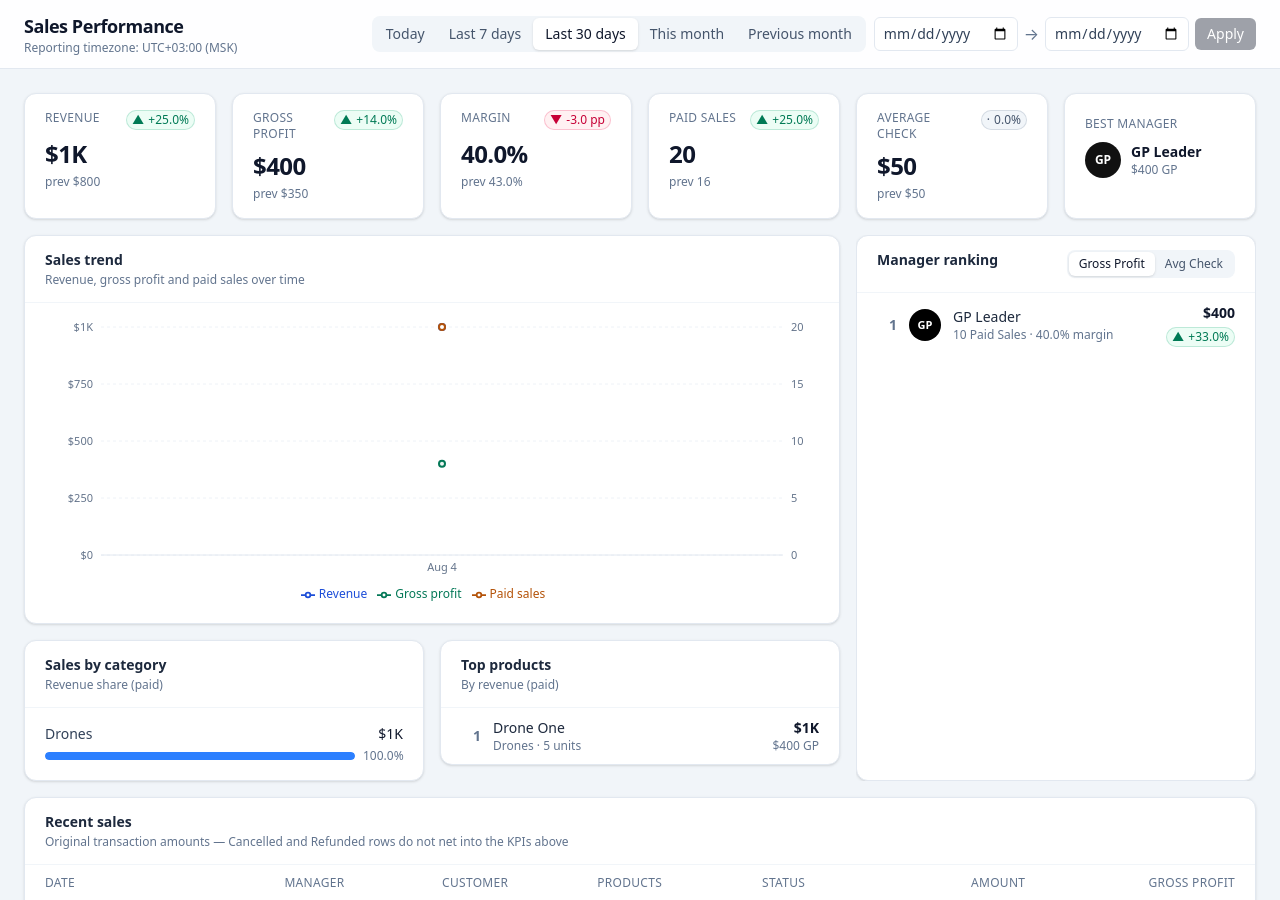
Scenario: Dashboard › marks an inverted custom range invalid and makes no request for it
Expected: the text "Revenue" in the row of "+14.0%" is shown, [45,109,100,126]
Type "2026-09-02" into the date field named "From date". click: (946, 34)
box: [874,17,1018,51]
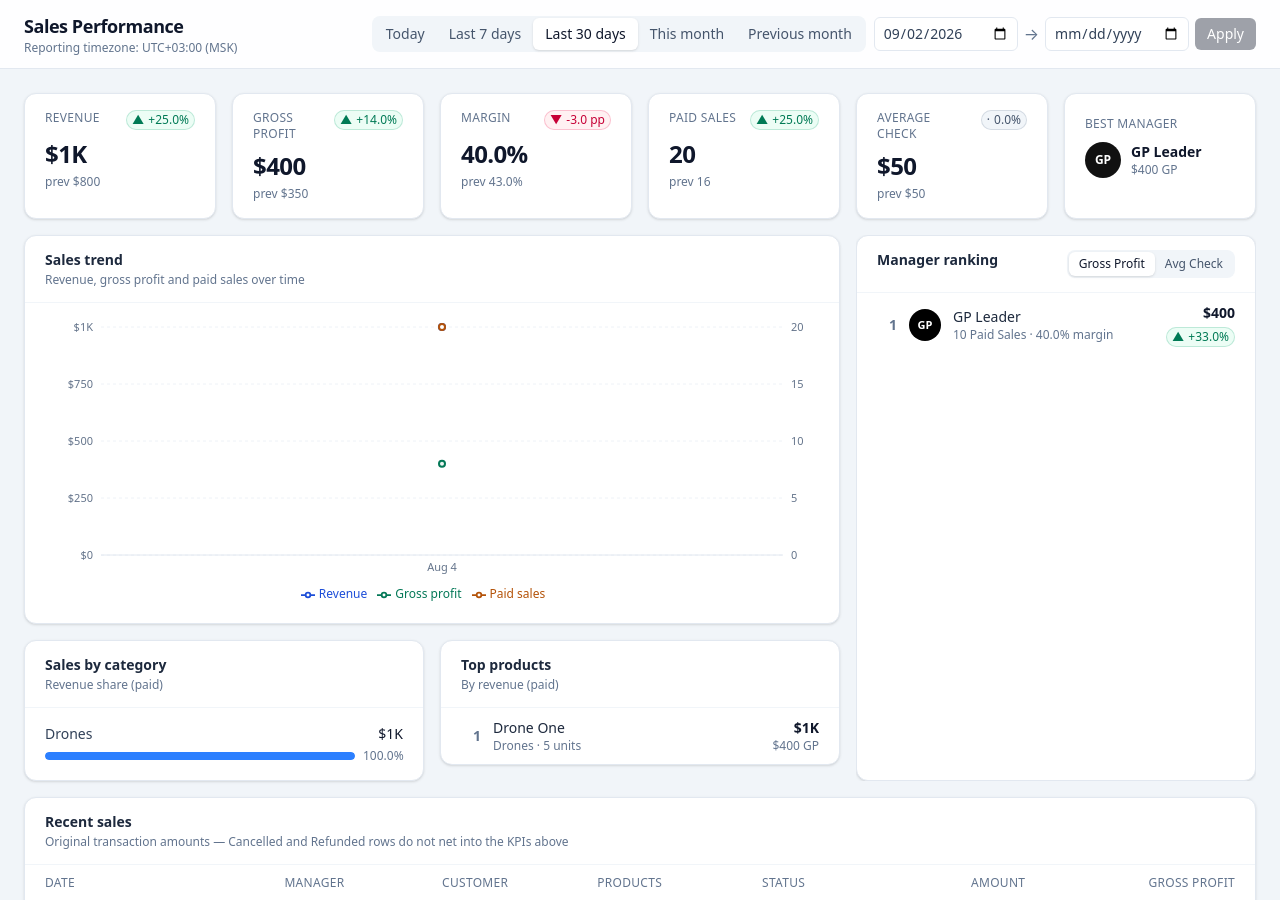
Type "2026-09-01" into the date field named "To date". click: (1117, 34)
box: [1045,17,1189,51]
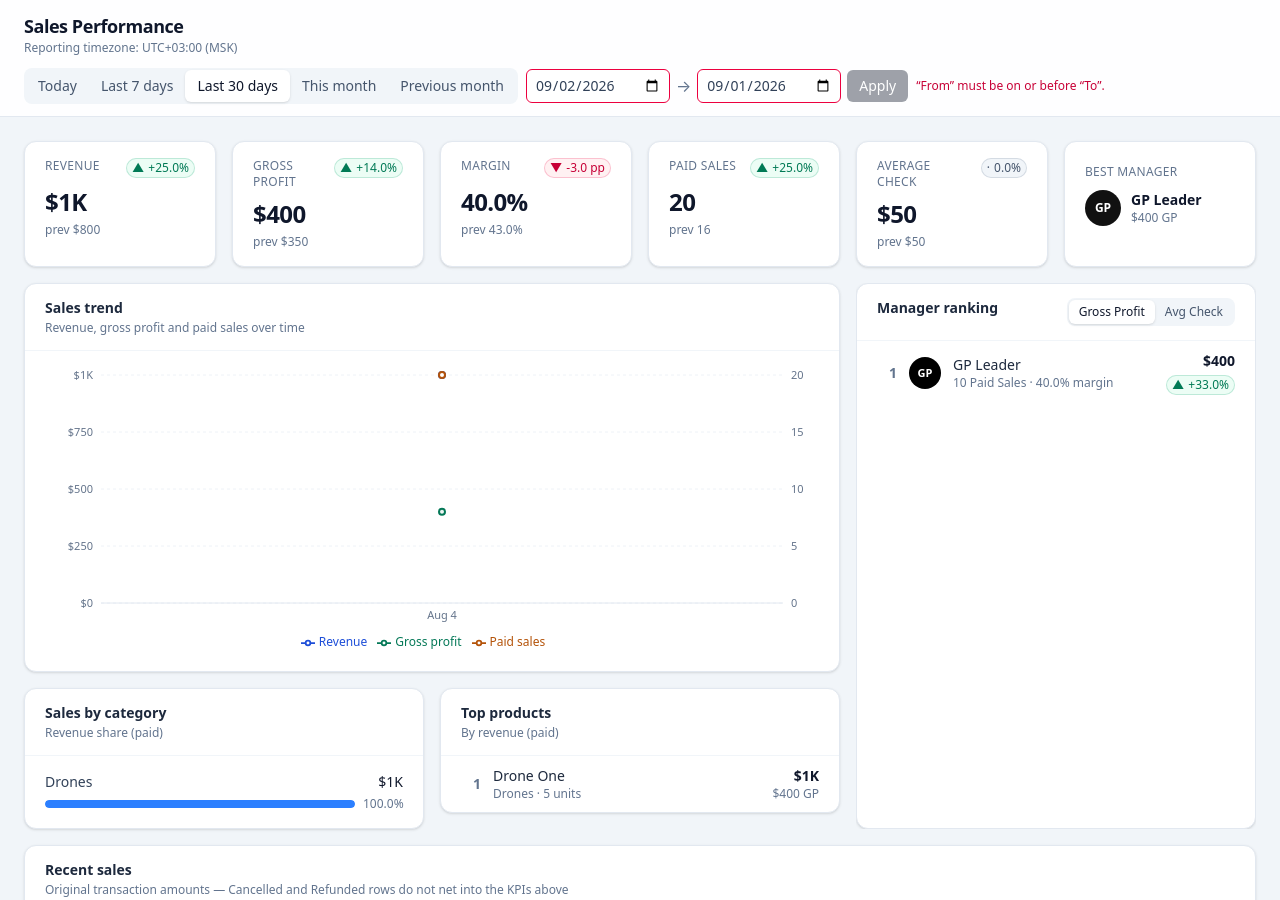
Expected: the button "Apply" is disabled, [847,70,908,102]
Result: the message reads "“From” must be on or before “To”." at [916,77,1105,94]
